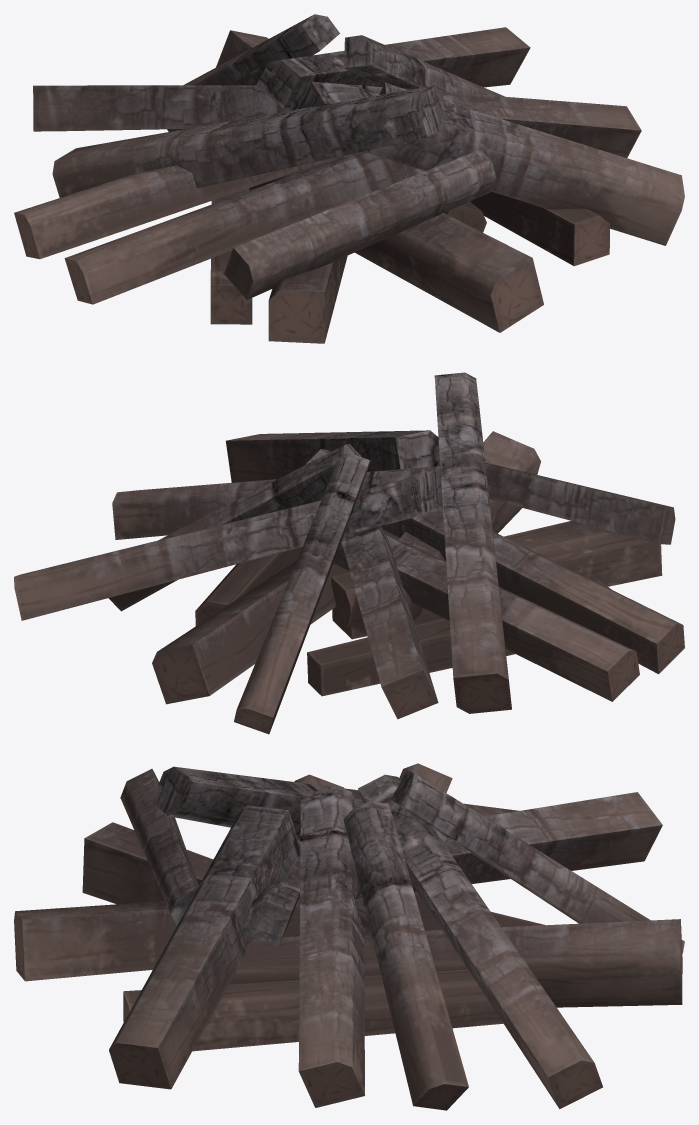
The picture shows the model from 3 angles, top to bottom: view 1: azimuth 30°, elevation 25°; view 2: azimuth 150°, elevation 25°; view 3: azimuth 270°, elevation 25°; orthographic projection. The views are drawn at different scales.
Parts seen in each view (by area): view 1: submesh_0; view 2: submesh_0; view 3: submesh_0.
Part boxes in pixels (bbox=[...]): submesh_0: bbox=[14, 14, 684, 343]; submesh_0: bbox=[14, 372, 684, 734]; submesh_0: bbox=[14, 763, 684, 1110].
Bounding box in the file's own units: 0.8012 × 0.2818 × 0.7627.
Materials: 1 (1 with a texture image).
